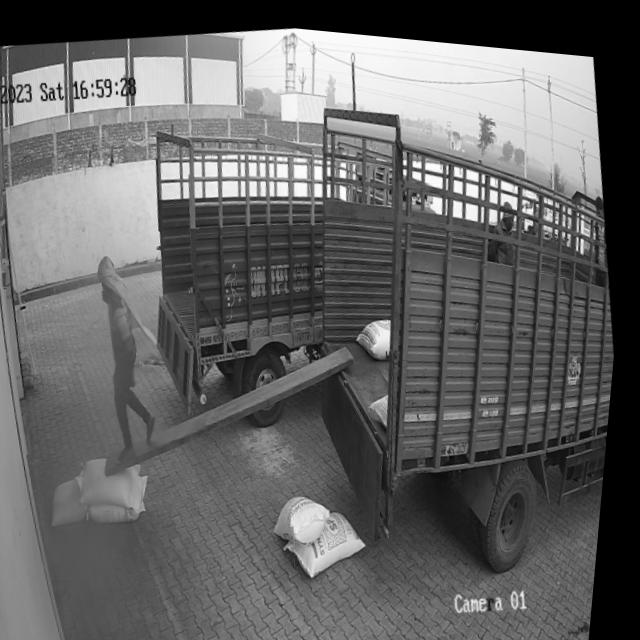sack: (287, 495, 381, 578), (83, 447, 155, 511), (90, 468, 162, 526), (277, 483, 344, 544), (53, 470, 101, 528)
